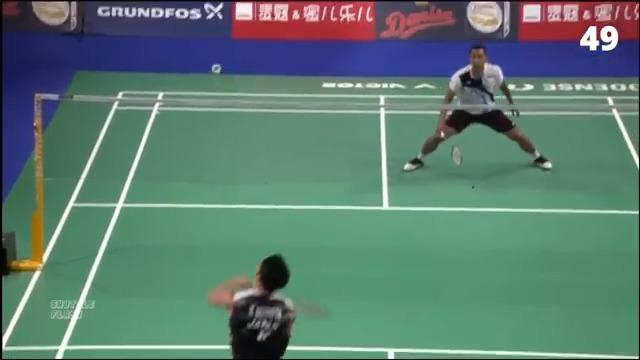Shuttlecock: (208, 64, 226, 74)
